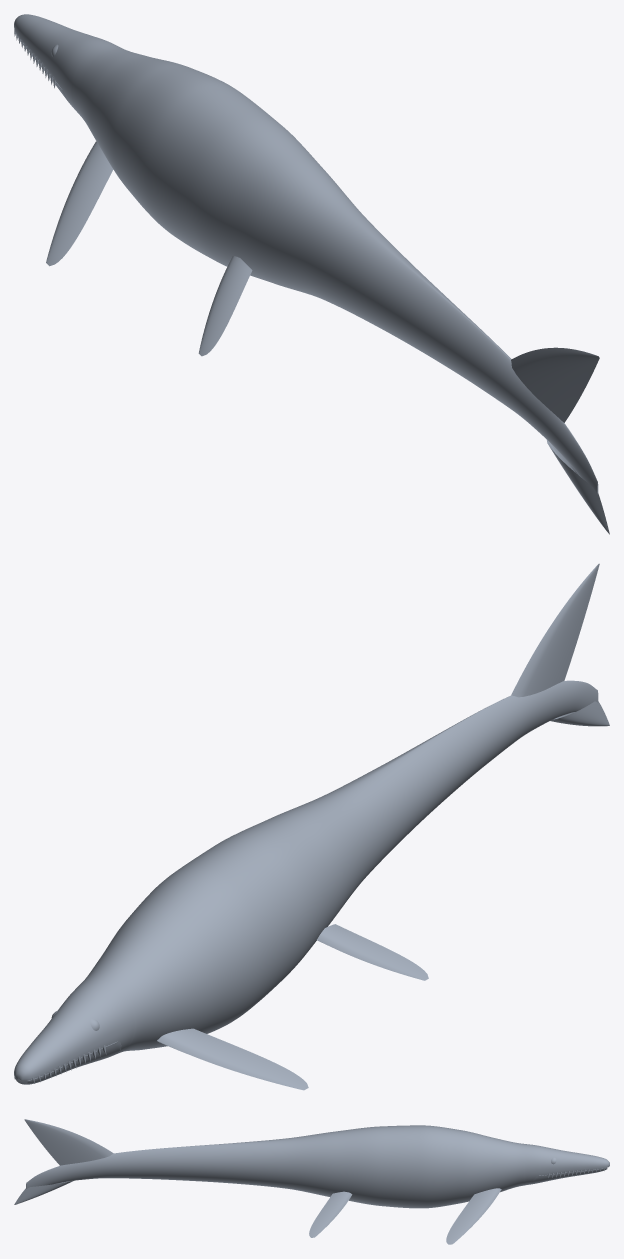
The model's file is mosasaur.glb.
3 renders of one model, top to bottom at view 1: azimuth 30°, elevation 25°; view 2: azimuth 150°, elevation 25°; view 3: azimuth 270°, elevation 25°, orthographic. The views are drawn at different scales.
Visible parts, largest first — view 1: mosasaur; view 2: mosasaur; view 3: mosasaur.
Part boxes in pixels (<box>): mosasaur: <box>14,14,609,534</box>; mosasaur: <box>14,563,609,1090</box>; mosasaur: <box>14,1119,609,1244</box>.
Size of the model in its own units: 3.04 by 2.08 by 12.
